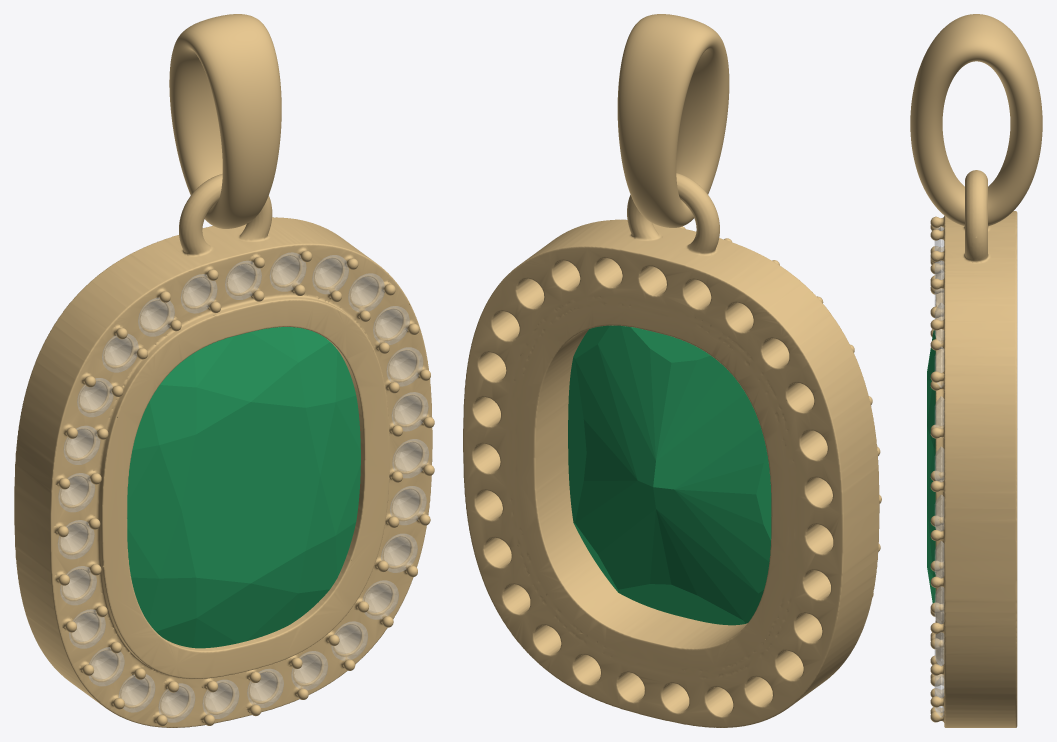
File: dije.glb
3 renders of one model, left to right at view 1: azimuth 30°, elevation 25°; view 2: azimuth 150°, elevation 25°; view 3: azimuth 270°, elevation 25°, orthographic.
Visible parts, largest first — view 1: Oro, Esmeralda, Halo, Colgador; view 2: Oro, Esmeralda, Colgador; view 3: Oro, Colgador, Halo, Esmeralda.
Part boxes in pixels (bbox=[...]): Oro: bbox=[14, 174, 434, 727]; Esmeralda: bbox=[127, 327, 360, 648]; Halo: bbox=[58, 252, 428, 722]; Colgador: bbox=[169, 14, 281, 228]; Oro: bbox=[463, 173, 881, 727]; Esmeralda: bbox=[568, 325, 771, 625]; Colgador: bbox=[617, 14, 729, 227]; Oro: bbox=[930, 170, 1017, 727]; Colgador: bbox=[910, 14, 1042, 226]; Halo: bbox=[934, 226, 944, 717]; Esmeralda: bbox=[927, 330, 935, 603].
Size of the model in its own units: 12.56 by 21.55 by 3.84.
